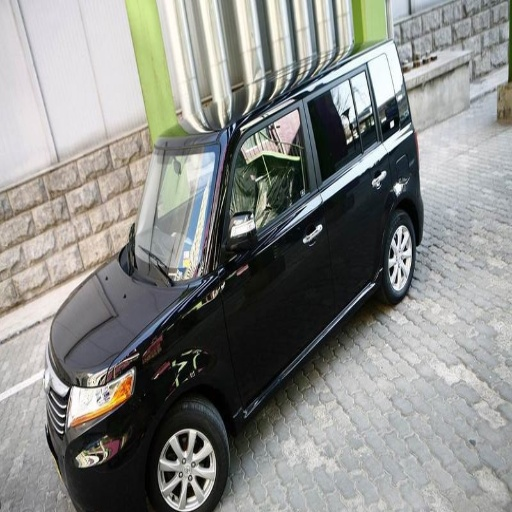front_left_door: (227, 289, 286, 396)
